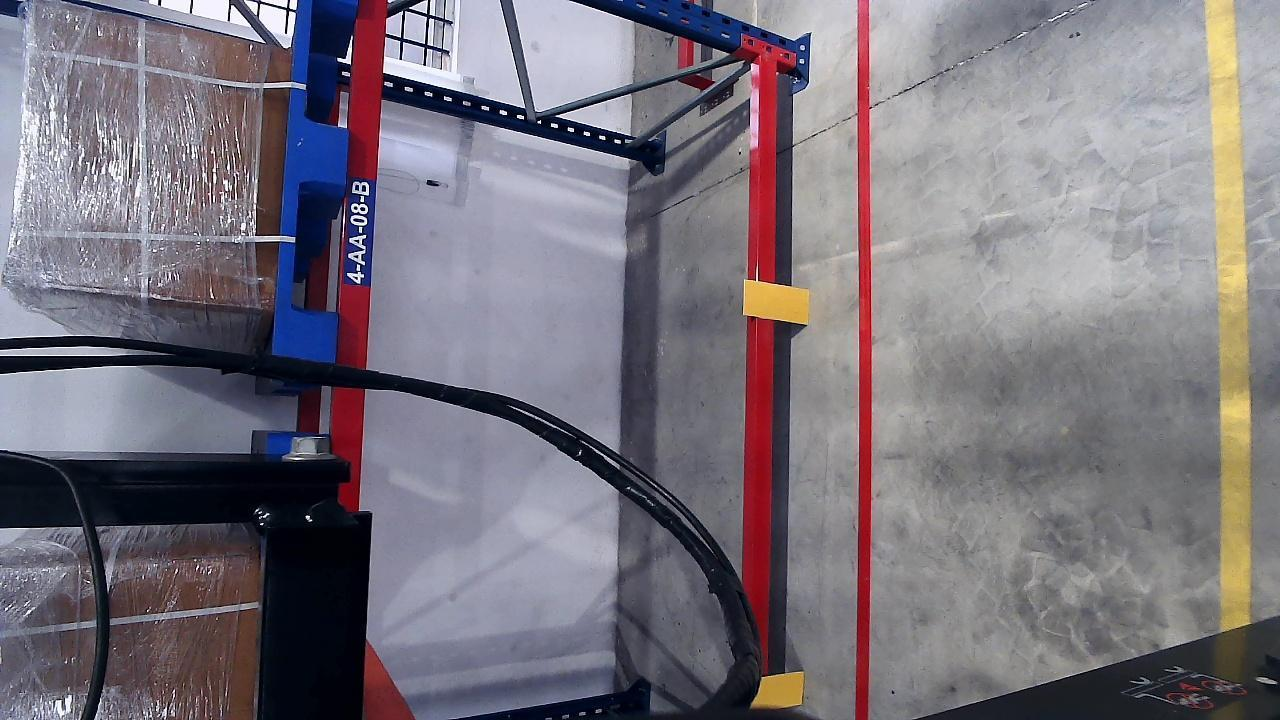red_line: (854, 0, 873, 720)
yellow_line: (1208, 0, 1254, 620)
